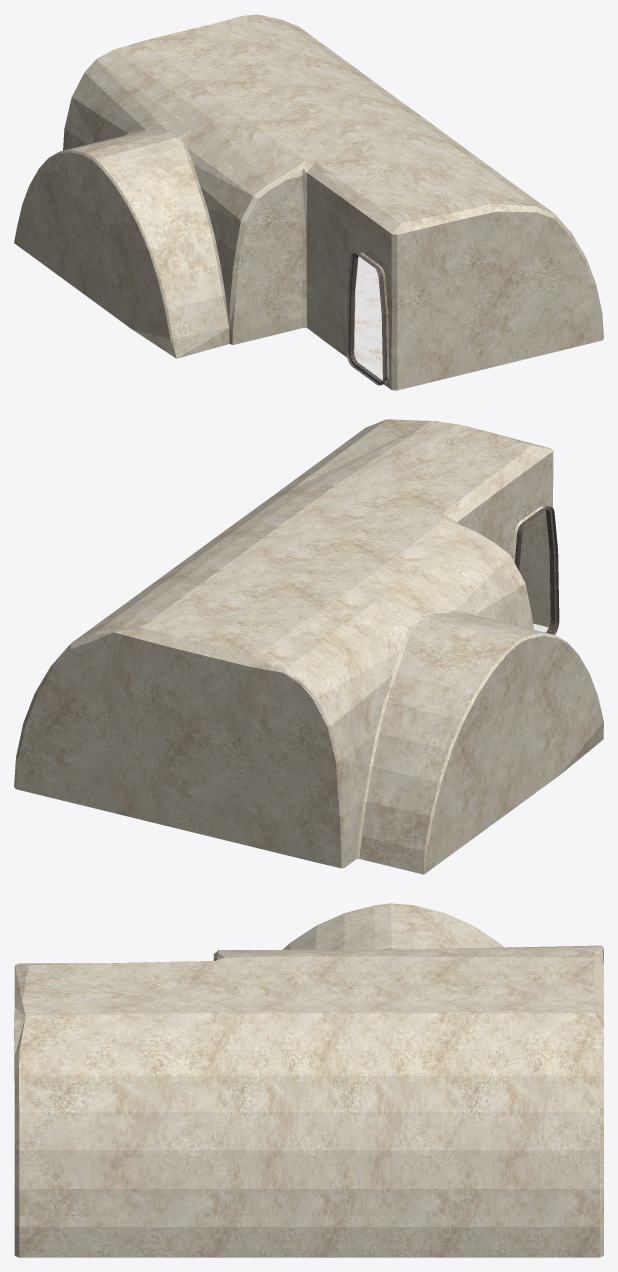
The model's file is ply_tato_assoc_hall_civ_s02_r14_bedroom3_mesh_r14.fbx.
3 views of the same model, one above another, from view 1: azimuth 30°, elevation 25°; view 2: azimuth 150°, elevation 25°; view 3: azimuth 270°, elevation 25° (orthographic). The views are drawn at different scales.
Visible parts, largest first — view 1: mesh_node; view 2: mesh_node; view 3: mesh_node.
Boxes of the visible parts, x1=… form: mesh_node: x1=14, y1=14, x2=603, y2=390; mesh_node: x1=14, y1=419, x2=603, y2=874; mesh_node: x1=14, y1=903, x2=603, y2=1257.
Bounding box in the file's own units: 9.97 × 4.48 × 12.94.
